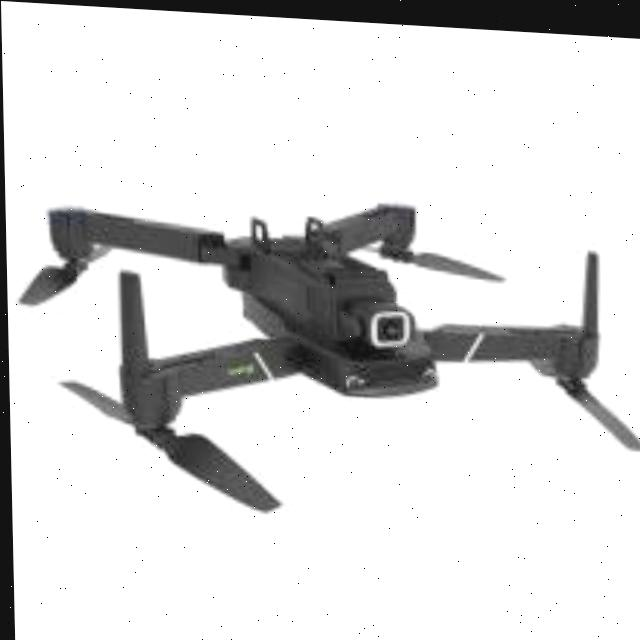drone: (3, 163, 640, 516)
